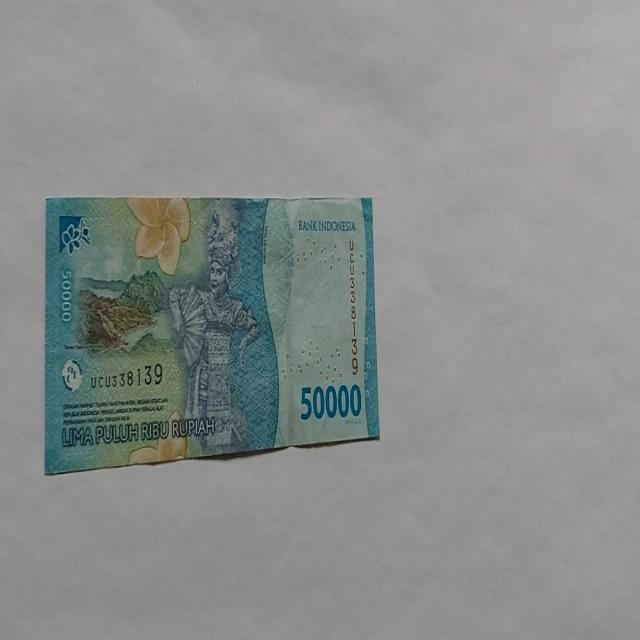lima puluh ribu rupiah: (44, 194, 380, 474), (168, 204, 262, 454)
